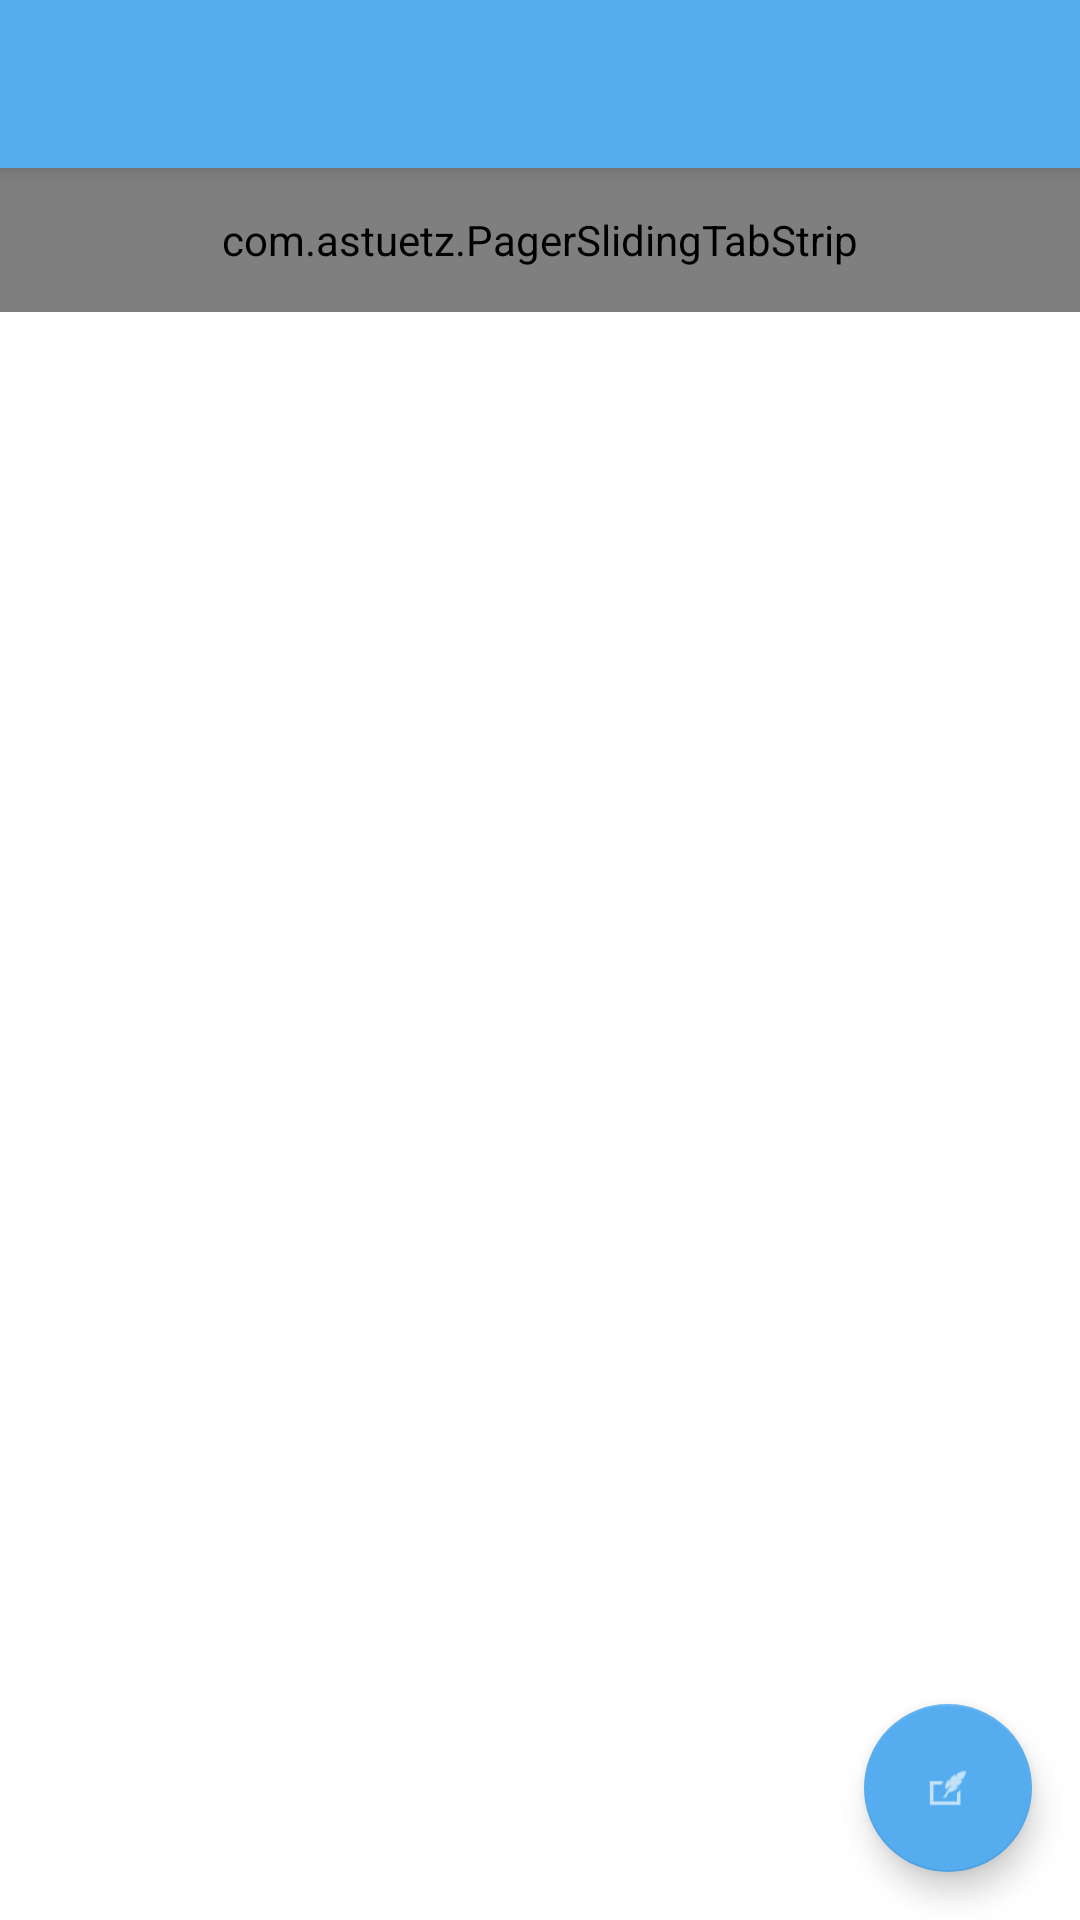

Where to tap for icons on this 1080×1920 app screen, as (x=x, y=y):
compose: (x=948, y=1788)
